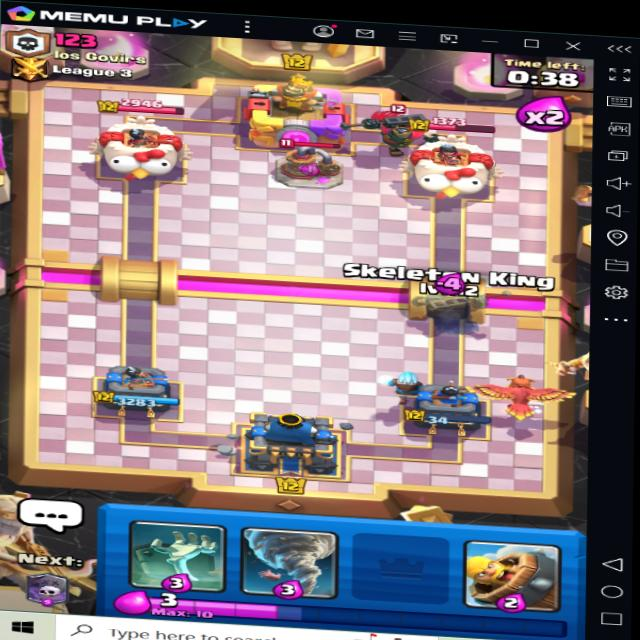Pump: (268, 135, 359, 194)
skellyking: (359, 107, 438, 161)
